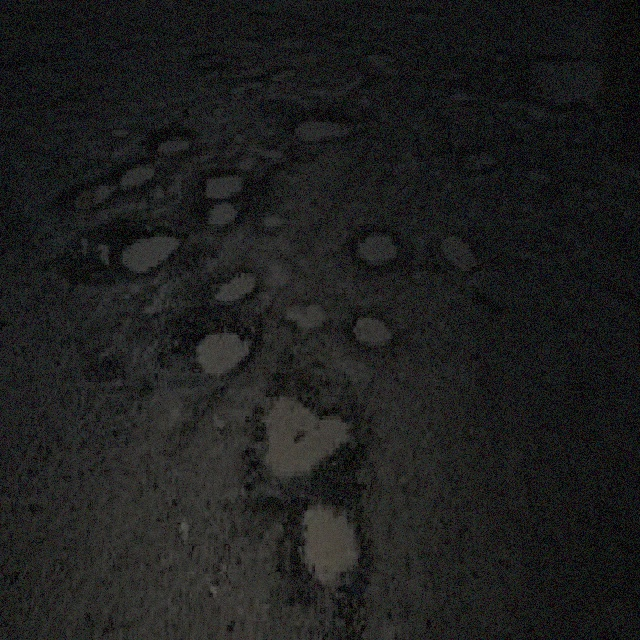pothole: (258, 384, 358, 476), (525, 49, 629, 111), (296, 495, 364, 584), (187, 318, 254, 377), (119, 220, 180, 271), (290, 107, 360, 143), (54, 173, 116, 213), (210, 262, 259, 305), (438, 226, 479, 273), (354, 224, 398, 265), (283, 296, 327, 331), (350, 312, 395, 346), (152, 120, 193, 154), (118, 154, 154, 188), (201, 169, 245, 196), (461, 143, 498, 171), (203, 199, 238, 226)
